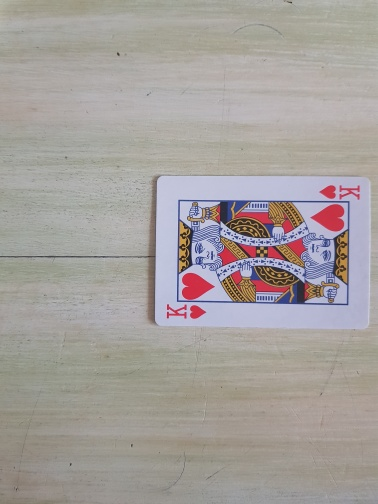king: (152, 174, 371, 330)
